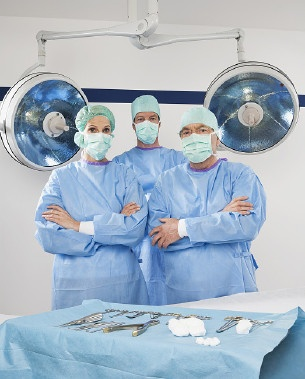Mask: (81, 121, 117, 157)
